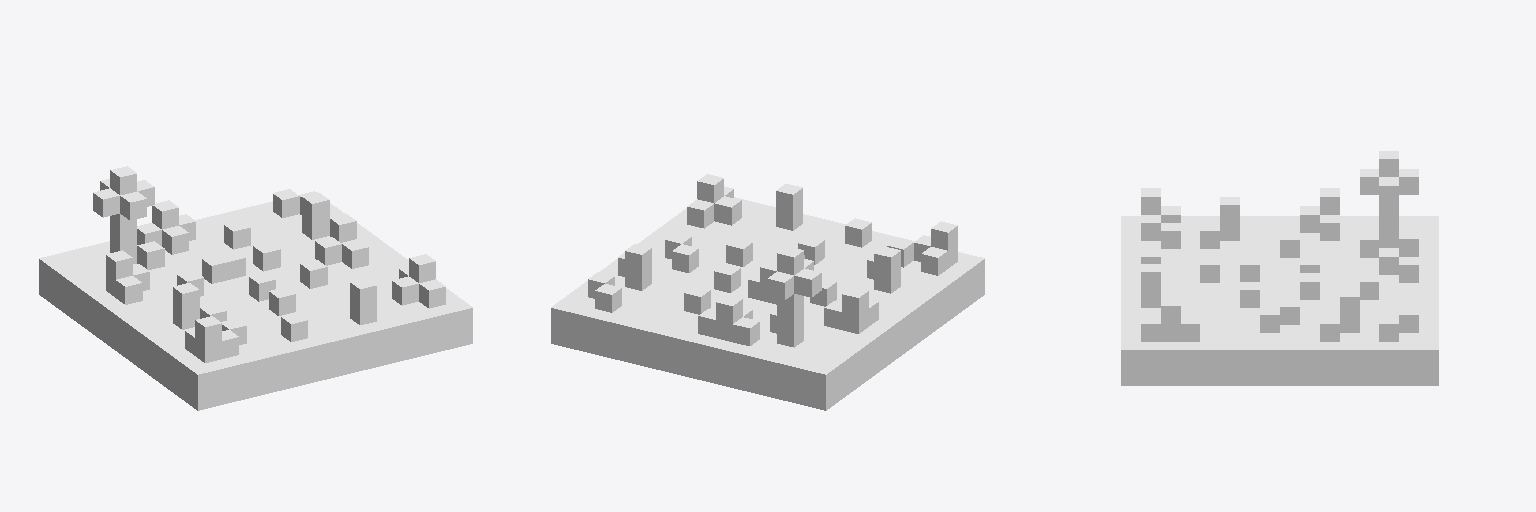
File: Field_1.obj
3 renders of one model, left to right at view 1: azimuth 30°, elevation 25°; view 2: azimuth 150°, elevation 25°; view 3: azimuth 270°, elevation 25°, orthographic.
Visible parts, largest first — view 1: object 1; view 2: object 1; view 3: object 1.
Part boxes in pixels (left/top/right/bottom): object 1: left=39, top=166, right=472, bottom=410; object 1: left=551, top=174, right=984, bottom=410; object 1: left=1121, top=151, right=1438, bottom=385.
Bounding box in the file's own units: 1.6 × 0.7 × 1.6.